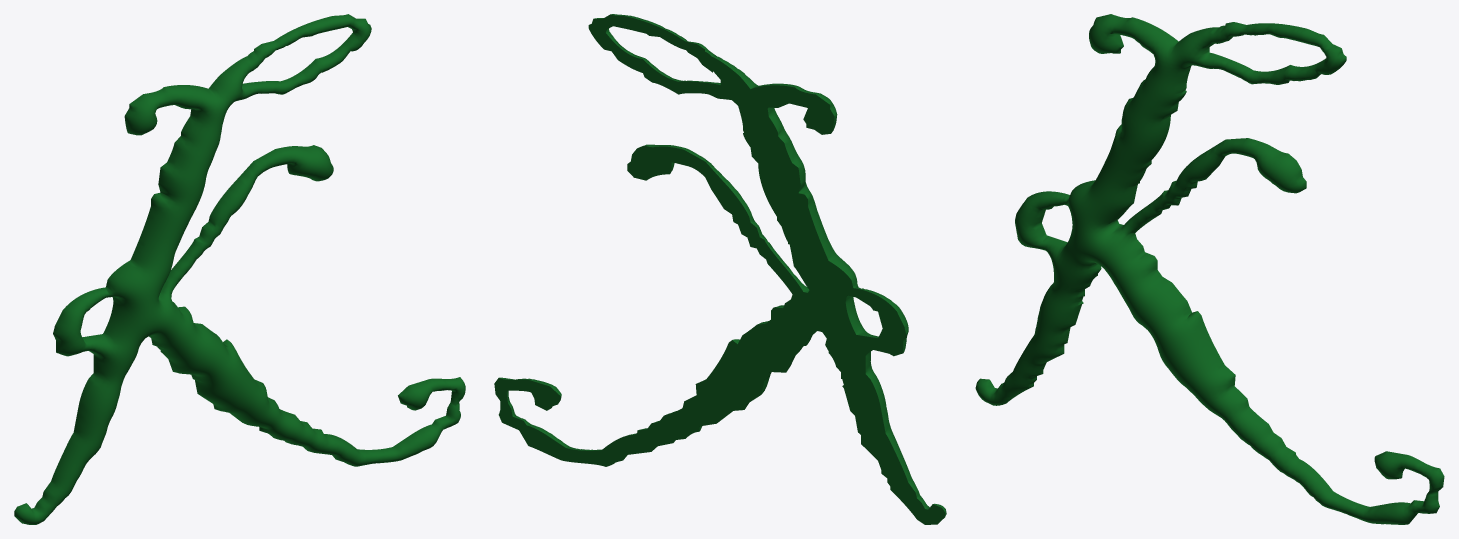
3 renders of one model, left to right at view 1: azimuth 30°, elevation 25°; view 2: azimuth 150°, elevation 25°; view 3: azimuth 330°, elevation 25°, orthographic. The views are drawn at different scales.
Visible parts, largest first — view 1: AdobeIllustratorMesh1.003; view 2: AdobeIllustratorMesh1.003; view 3: AdobeIllustratorMesh1.003.
Part boxes in pixels (x1,y1,x2,y2): AdobeIllustratorMesh1.003: (14,14,465,524); AdobeIllustratorMesh1.003: (494,14,946,524); AdobeIllustratorMesh1.003: (975,14,1444,524).
Bounding box in the file's own units: 101 × 98.15 × 6.81.
